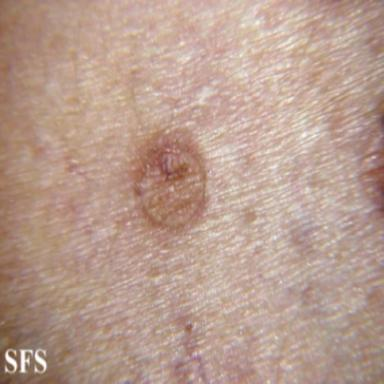Porokeratosis: (134, 128, 209, 231), (359, 100, 384, 214)
